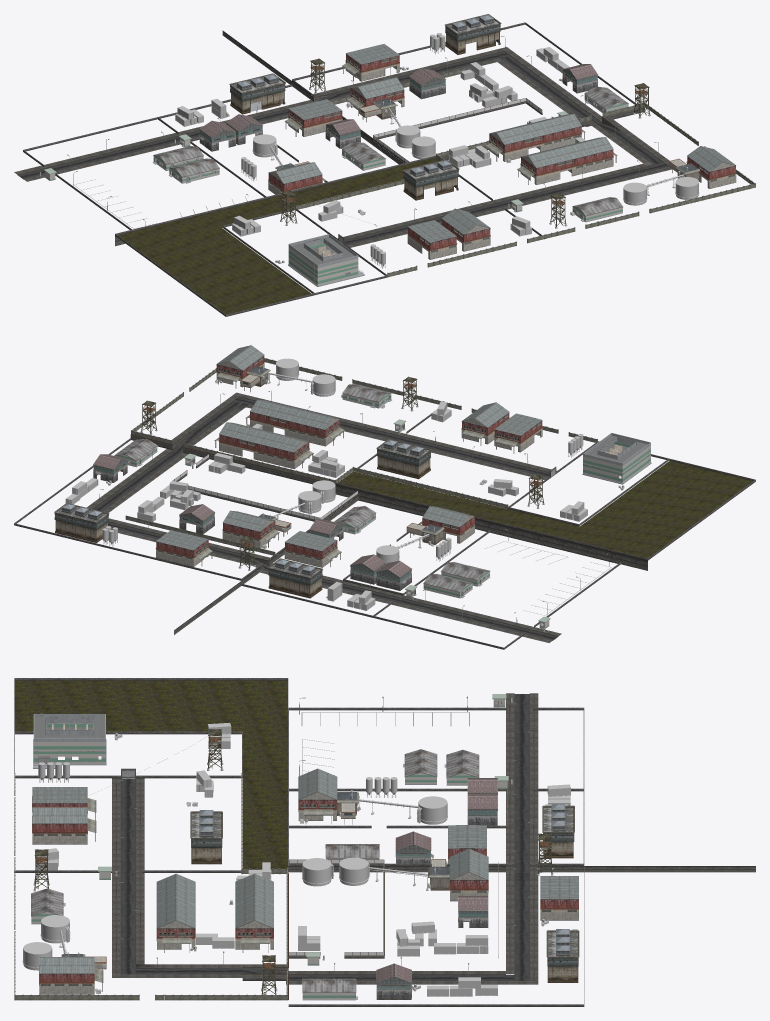
Rendered from Place01.fbx.
3 views of the same model, one above another, from view 1: azimuth 30°, elevation 25°; view 2: azimuth 150°, elevation 25°; view 3: azimuth 270°, elevation 25° (orthographic). The views are drawn at different scales.
Visible parts, largest first — view 1: default_34, polySurface3354, polySurface3380, polySurface3308, polySurface3292, polySurface3296, polySurface3312, polySurface3326, polySurface3306, polySurface3321, polySurface3316, polySurface3341 (+16 smaller); view 2: polySurface3380, default_34, polySurface3354, polySurface3312, polySurface3292, polySurface3308, polySurface3296, polySurface3342, polySurface3306, polySurface3326, polySurface3341, polySurface3321 (+16 smaller); view 3: polySurface3354, default_34, polySurface3380, polySurface3296, polySurface3292, polySurface3308, polySurface3312, polySurface3306, polySurface3342, polySurface3326, polySurface3314, polySurface3316 (+20 smaller).
Part boxes in pixels (x1,y1,x2,y2): default_34: (118, 158, 439, 314); polySurface3354: (14, 47, 671, 247); polySurface3380: (23, 22, 755, 316); polySurface3308: (517, 137, 617, 184); polySurface3292: (407, 208, 490, 259); polySurface3296: (288, 234, 364, 286); polySurface3312: (485, 113, 585, 162); polySurface3326: (346, 77, 404, 122); polySurface3306: (669, 146, 736, 188); polySurface3321: (229, 73, 285, 114); polySurface3316: (445, 14, 501, 54); polySurface3341: (402, 159, 459, 200); polySurface3380: (14, 358, 755, 649); default_34: (338, 461, 752, 558); polySurface3354: (87, 392, 561, 642); polySurface3312: (214, 422, 313, 468); polySurface3292: (461, 402, 542, 453); polySurface3308: (245, 399, 344, 446); polySurface3296: (582, 433, 651, 484); polySurface3342: (406, 506, 474, 546); polySurface3306: (215, 345, 270, 392); polySurface3326: (222, 510, 291, 548); polySurface3341: (376, 439, 431, 479); polySurface3321: (267, 558, 322, 598); polySurface3354: (112, 693, 538, 984); default_34: (14, 680, 287, 868); polySurface3380: (14, 678, 584, 1006); polySurface3296: (33, 713, 106, 768); polySurface3292: (32, 787, 96, 844); polySurface3308: (156, 873, 217, 952); polySurface3312: (212, 873, 273, 952); polySurface3306: (39, 952, 106, 994); polySurface3342: (298, 768, 360, 824); polySurface3326: (426, 848, 488, 901); polySurface3314: (396, 921, 488, 956); polySurface3316: (546, 929, 579, 982).
Bounding box in the file's own units: 2696446 × 195416 × 2643589.
